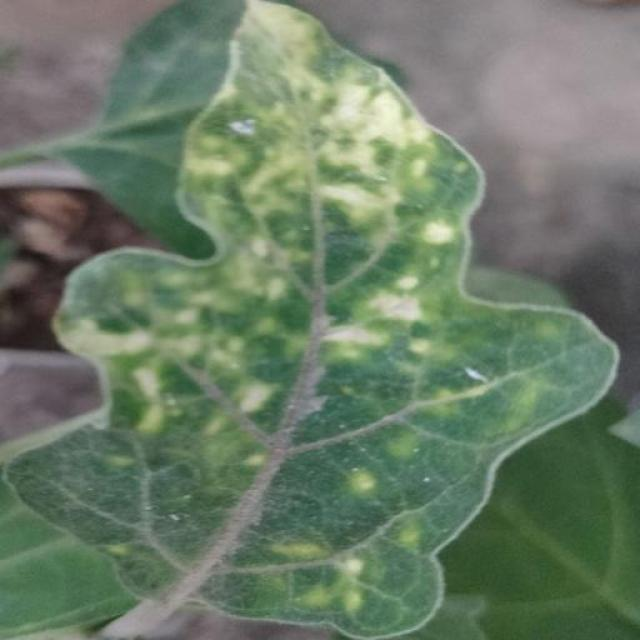leaf_spot: (51, 305, 183, 492), (288, 128, 418, 268), (422, 244, 566, 364), (323, 44, 440, 178), (222, 0, 331, 132), (266, 529, 378, 633), (238, 118, 314, 234), (230, 233, 306, 320), (115, 262, 208, 333), (94, 517, 166, 607), (172, 320, 253, 388), (362, 270, 429, 343), (301, 311, 380, 370), (490, 372, 560, 430), (185, 130, 248, 186), (377, 416, 431, 469), (227, 368, 280, 416), (344, 458, 384, 509), (413, 218, 459, 254), (429, 382, 462, 429), (391, 515, 425, 551), (237, 444, 270, 480), (402, 330, 434, 365), (199, 406, 228, 442), (340, 377, 357, 400), (450, 156, 468, 174)
